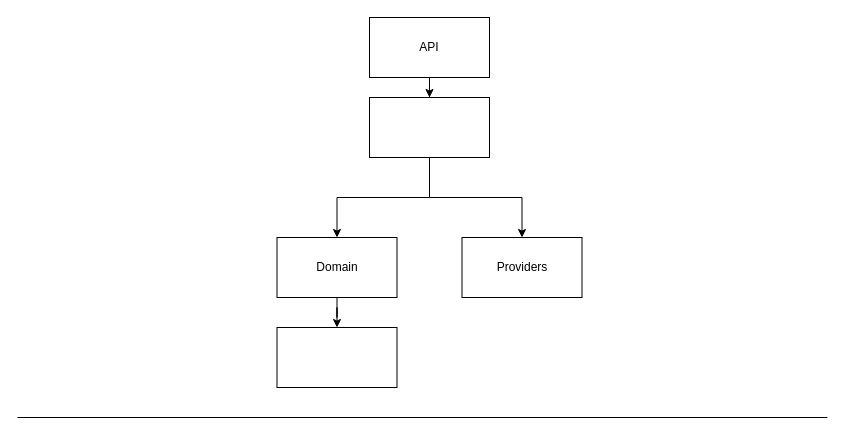
Image size: 846x436. Some labels were removed from this diagram. Here are the shapes that lost their labels. From the top down, the centre of each, then its label:
point (429, 127): Application Service
point (336, 357): Infra
